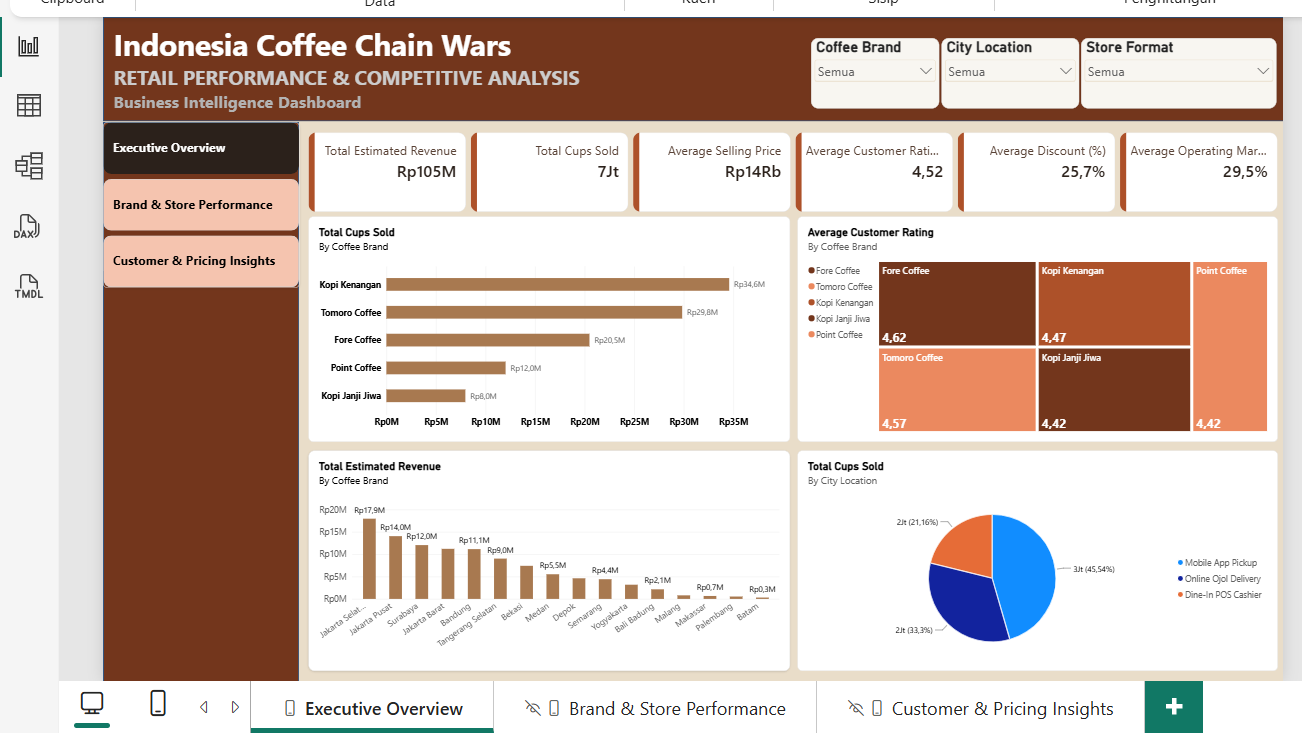

Layout of this report page (visuals, bound fields, positions):
{"tool":"powerbi","page":{"name":"Executive Overview","canvas":[1920,1080],"ordinal":0},"visuals":[{"type":"shape","box":[0,0,2561.2,169.6],"z":0},{"type":"textbox","box":[17.5,12.5,810,155],"z":1000},{"type":"cardVisual","fields":{"Data":["_MEASURE.Total Estimated Revenue","_MEASURE.Total Cups Sold","_MEASURE.Average Selling Price","_MEASURE.Average Customer Rating","_MEASURE.Average Discount (%)","_MEASURE.Average Operating Margin (%)"]},"box":[333.3,186.7,1577.4,129.8],"z":2000},{"type":"columnChart","title":"Total Estimated Revenue","fields":{"Category":["Dataset.city_location"],"Y":["_MEASURE.Total Estimated Revenue"]},"box":[333.3,704.7,783.6,358.7],"z":3000},{"type":"barChart","title":"Total Cups Sold","fields":{"Category":["Dataset.coffee_brand"],"Y":["_MEASURE.Total Estimated Revenue"]},"box":[333.3,325.7,783.6,366.4],"z":4000},{"type":"pieChart","title":"Total Cups Sold","fields":{"Category":["Dataset.order_method"],"Y":["_MEASURE.Total Cups Sold"]},"box":[1129.6,704.7,781.1,358.7],"z":5000},{"type":"treemap","title":"Average Customer Rating","fields":{"Group":["Dataset.coffee_brand"],"Values":["_MEASURE.Average Customer Rating"]},"box":[1129.6,325.7,781.1,366.4],"z":6000},{"type":"shape","box":[0,169.6,318.9,1268.7],"z":7000},{"type":"pageNavigator","box":[0,170,320,270],"z":8000},{"type":"slicer","fields":{"Values":["Dataset.coffee_brand"]},"box":[1152.5,33.1,208.6,114.5],"z":9000},{"type":"slicer","fields":{"Values":["Dataset.city_location"]},"box":[1363.7,33.1,223.9,114.5],"z":10000},{"type":"slicer","fields":{"Values":["Dataset.store_format"]},"box":[1590.1,33.1,318,114.5],"z":11000}]}

Visuals, with their boxes on the page's 1920x1080 design canvas (x1, y1, x2, y2). These are canvas units, not pixel positions in the 1302x733 screenshot, which may show the page scaled, cropped or inside an application window:
shape: <bbox>0, 0, 2561, 170</bbox>
textbox: <bbox>18, 12, 828, 168</bbox>
cardVisual - _MEASURE.Total Estimated Revenue x _MEASURE.Total Cups Sold: <bbox>333, 187, 1911, 316</bbox>
"Total Estimated Revenue" columnChart: <bbox>333, 705, 1117, 1063</bbox>
"Total Cups Sold" barChart: <bbox>333, 326, 1117, 692</bbox>
"Total Cups Sold" pieChart: <bbox>1130, 705, 1911, 1063</bbox>
"Average Customer Rating" treemap: <bbox>1130, 326, 1911, 692</bbox>
shape: <bbox>0, 170, 319, 1438</bbox>
pageNavigator: <bbox>0, 170, 320, 440</bbox>
slicer - Dataset.coffee_brand: <bbox>1152, 33, 1361, 148</bbox>
slicer - Dataset.city_location: <bbox>1364, 33, 1588, 148</bbox>
slicer - Dataset.store_format: <bbox>1590, 33, 1908, 148</bbox>
